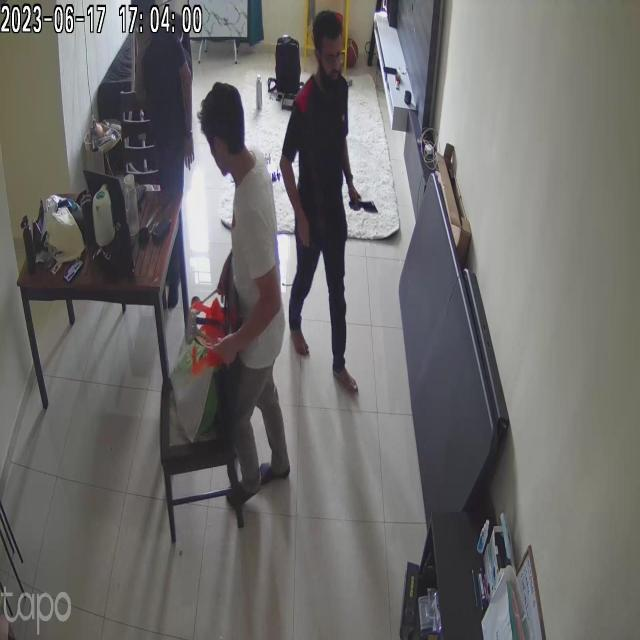Knife: (349, 180, 379, 222)
